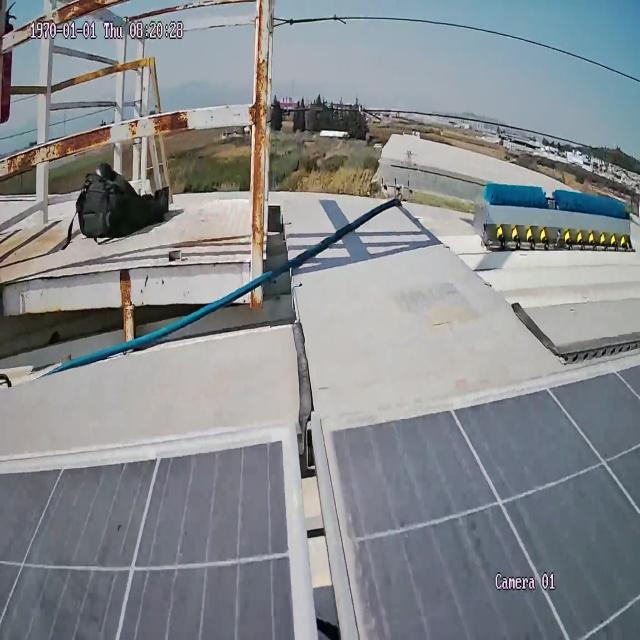interior panel: (256, 416, 379, 640)
outher panel: (0, 166, 640, 462)
